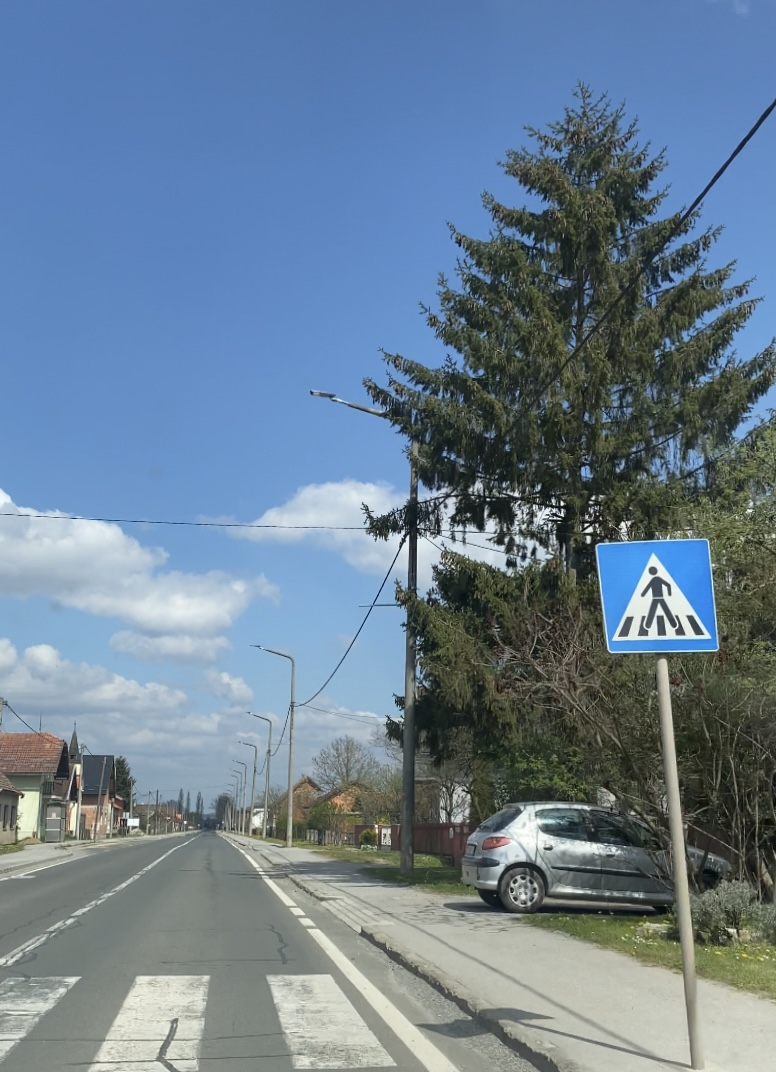Pješački prijelaz: (595, 538, 719, 652)
